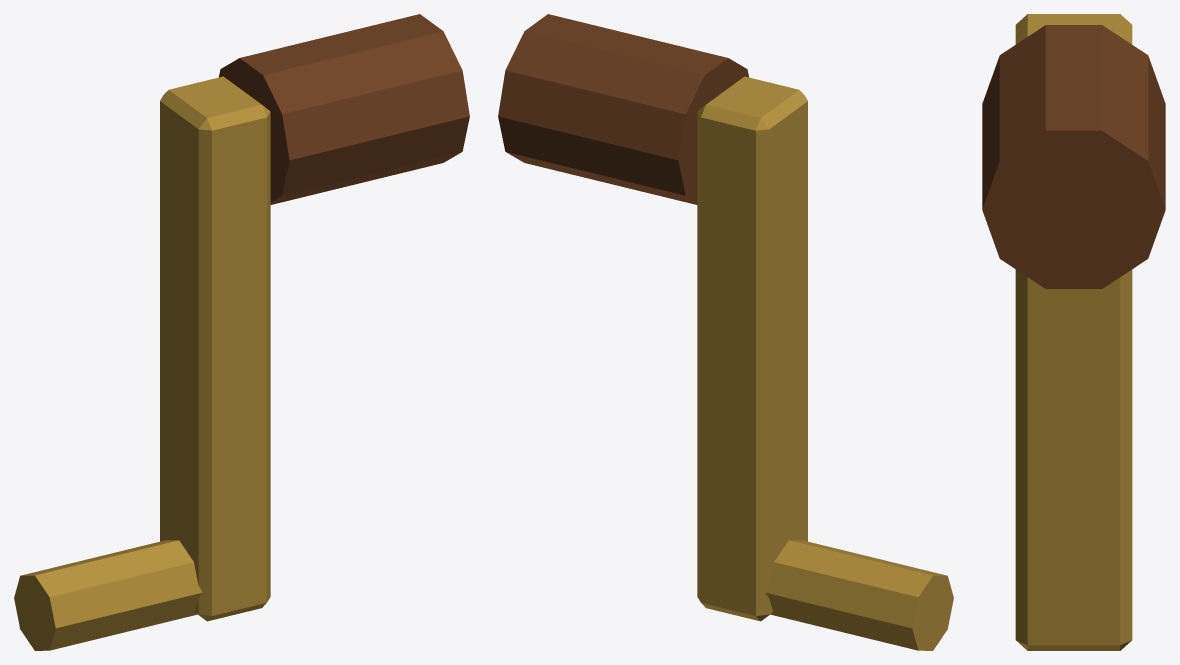
File: Prop_YTM_RecordPlayer_Crank.glb
3 renders of one model, left to right at view 1: azimuth 30°, elevation 25°; view 2: azimuth 150°, elevation 25°; view 3: azimuth 270°, elevation 25°, orthographic. The views are drawn at different scales.
Visible parts, largest first — view 1: Prop_YTM_RecordPlayer_Crank; view 2: Prop_YTM_RecordPlayer_Crank; view 3: Prop_YTM_RecordPlayer_Crank.
Part boxes in pixels (bbox=[...]): Prop_YTM_RecordPlayer_Crank: bbox=[14, 14, 469, 650]; Prop_YTM_RecordPlayer_Crank: bbox=[498, 14, 953, 650]; Prop_YTM_RecordPlayer_Crank: bbox=[982, 14, 1165, 650].
Size of what is drawn, in the model's own units: 0.066 by 0.0845 by 0.022.
